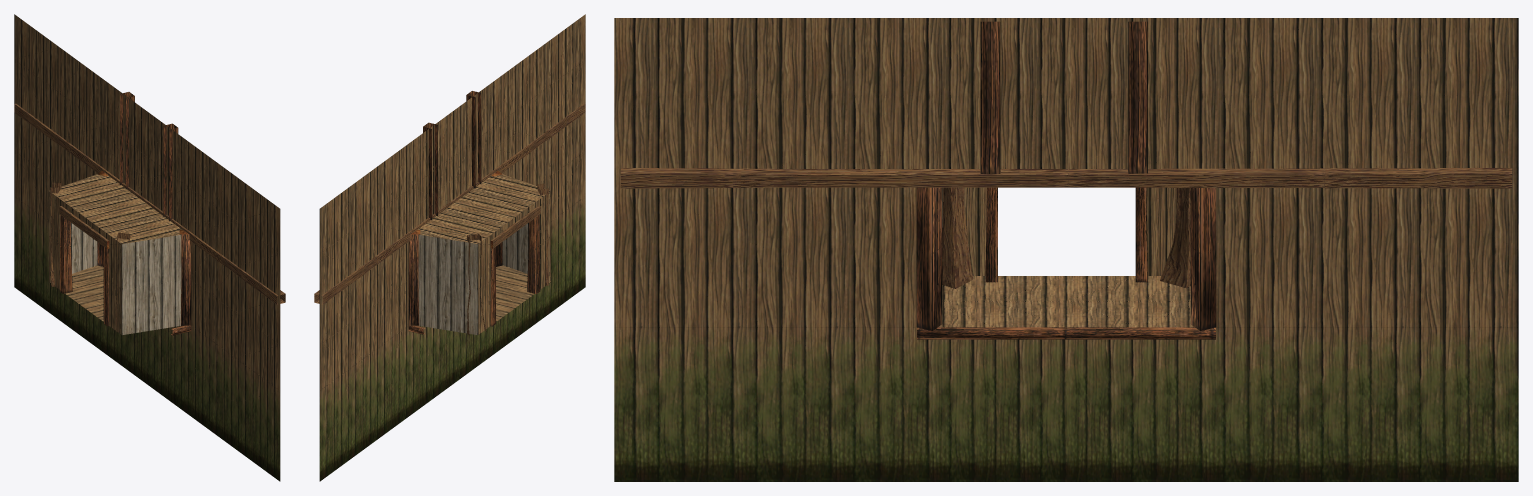
The model's file is LAKETOWN_WAREHOUSE2_PS_WH2_BACKWALL94948__GX.fbx.
The picture shows the model from 3 angles, left to right: view 1: azimuth 30°, elevation 25°; view 2: azimuth 150°, elevation 25°; view 3: azimuth 270°, elevation 25°; orthographic projection. The views are drawn at different scales.
Parts seen in each view (by area): view 1: LAKETOWN_WAREHOUSE2_PS_WH2_BACKWALL94948__GX; view 2: LAKETOWN_WAREHOUSE2_PS_WH2_BACKWALL94948__GX; view 3: LAKETOWN_WAREHOUSE2_PS_WH2_BACKWALL94948__GX.
Boxes of the visible parts, x1,y1,x2,y2 form: LAKETOWN_WAREHOUSE2_PS_WH2_BACKWALL94948__GX: (14, 14, 285, 481); LAKETOWN_WAREHOUSE2_PS_WH2_BACKWALL94948__GX: (314, 14, 585, 481); LAKETOWN_WAREHOUSE2_PS_WH2_BACKWALL94948__GX: (614, 18, 1518, 481).
Bounding box in the file's own units: 29595 × 107247 × 189000.
Materials: 9 (9 with a texture image).
